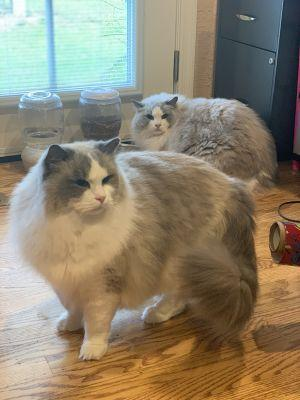ragdoll: (38, 135, 131, 225)
